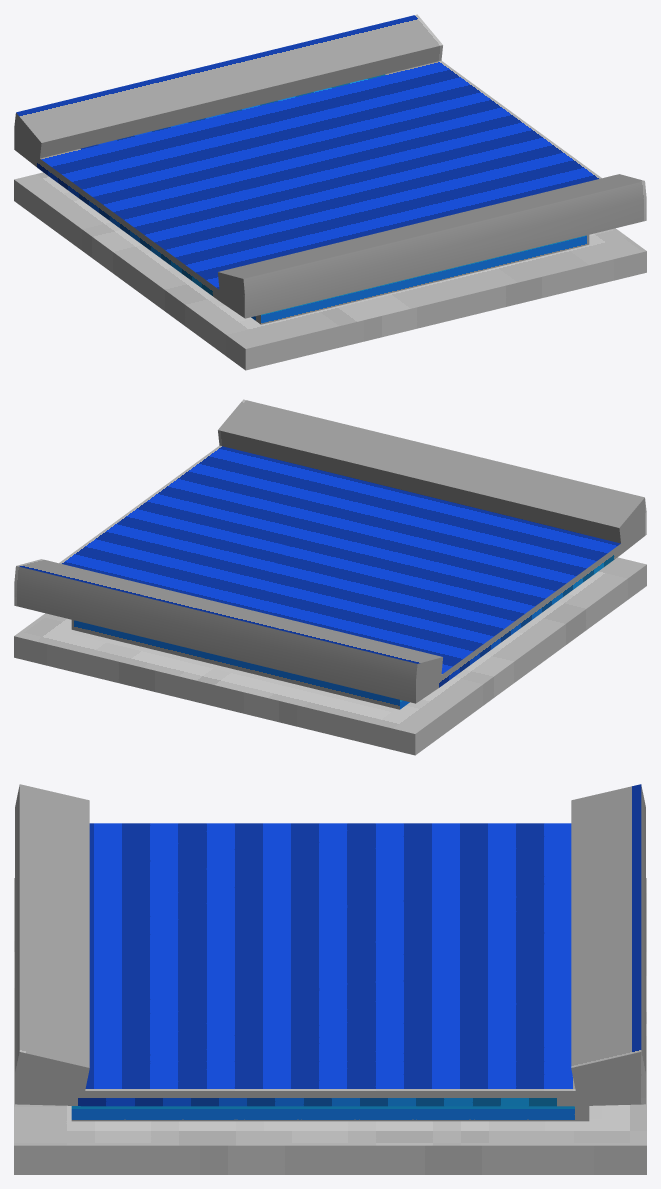
The model's file is solarpanel.obj.
3 renders of one model, top to bottom at view 1: azimuth 30°, elevation 25°; view 2: azimuth 150°, elevation 25°; view 3: azimuth 270°, elevation 25°, orthographic. The views are drawn at different scales.
Parts seen in each view (by area): view 1: solarPanel; view 2: solarPanel; view 3: solarPanel.
Boxes of the visible parts, <box> form: solarPanel: <box>14,14,646,370</box>; solarPanel: <box>14,399,646,755</box>; solarPanel: <box>14,784,646,1174</box>.
Size of the model in its own units: 1 by 0.2146 by 1.
